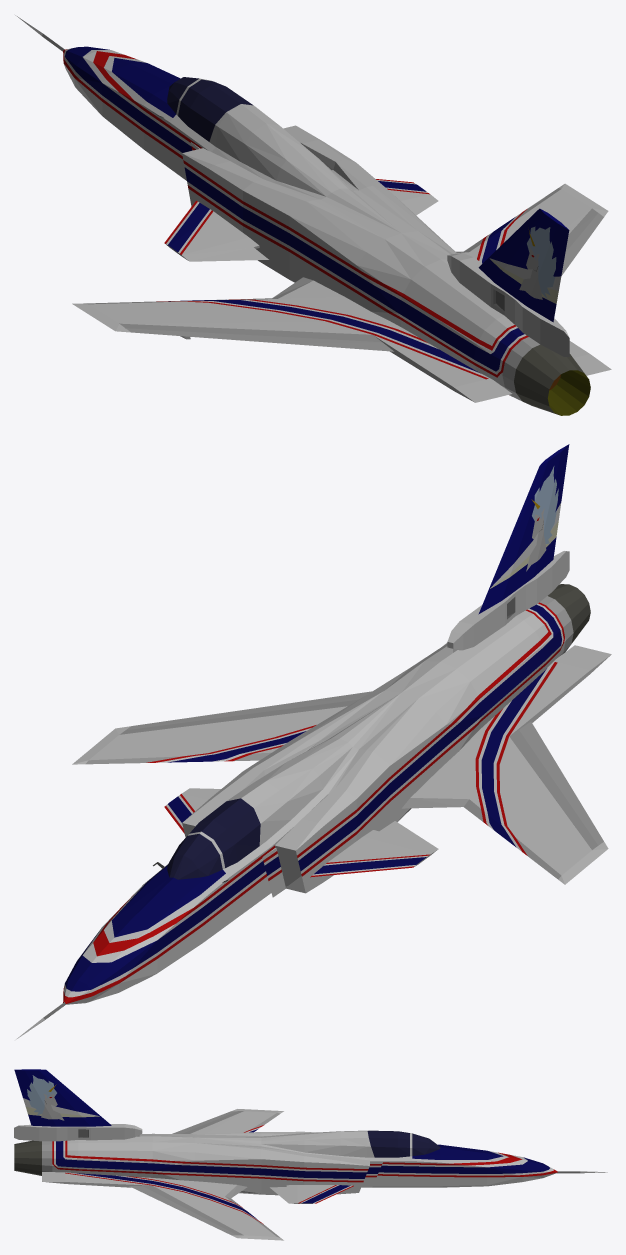
3 views of the same model, one above another, from view 1: azimuth 30°, elevation 25°; view 2: azimuth 150°, elevation 25°; view 3: azimuth 270°, elevation 25° (orthographic). The views are drawn at different scales.
Visible parts, largest first — view 1: ShapeIndexedFaceSet_ShapeIndexedFaceSet.001, ShapeIndexedFaceSet.029_ShapeIndexedFaceSet.030, ShapeIndexedFaceSet.001_ShapeIndexedFaceSet.002, ShapeIndexedFaceSet.003_ShapeIndexedFaceSet.004, ShapeIndexedFaceSet.002_ShapeIndexedFaceSet.003, ShapeIndexedFaceSet.011_ShapeIndexedFaceSet.012, ShapeIndexedFaceSet.005_ShapeIndexedFaceSet.006, ShapeIndexedFaceSet.018_ShapeIndexedFaceSet.019, ShapeIndexedFaceSet.004_ShapeIndexedFaceSet.005, ShapeIndexedFaceSet.064_ShapeIndexedFaceSet.065, ShapeIndexedFaceSet.030_ShapeIndexedFaceSet.031, ShapeIndexedFaceSet.009_ShapeIndexedFaceSet.010 (+12 smaller); view 2: ShapeIndexedFaceSet_ShapeIndexedFaceSet.001, ShapeIndexedFaceSet.029_ShapeIndexedFaceSet.030, ShapeIndexedFaceSet.001_ShapeIndexedFaceSet.002, ShapeIndexedFaceSet.005_ShapeIndexedFaceSet.006, ShapeIndexedFaceSet.003_ShapeIndexedFaceSet.004, ShapeIndexedFaceSet.002_ShapeIndexedFaceSet.003, ShapeIndexedFaceSet.011_ShapeIndexedFaceSet.012, ShapeIndexedFaceSet.018_ShapeIndexedFaceSet.019, ShapeIndexedFaceSet.030_ShapeIndexedFaceSet.031, ShapeIndexedFaceSet.064_ShapeIndexedFaceSet.065, ShapeIndexedFaceSet.034_ShapeIndexedFaceSet.035, ShapeIndexedFaceSet.031_ShapeIndexedFaceSet.032 (+5 smaller); view 3: ShapeIndexedFaceSet_ShapeIndexedFaceSet.001, ShapeIndexedFaceSet.001_ShapeIndexedFaceSet.002, ShapeIndexedFaceSet.029_ShapeIndexedFaceSet.030, ShapeIndexedFaceSet.003_ShapeIndexedFaceSet.004, ShapeIndexedFaceSet.002_ShapeIndexedFaceSet.003, ShapeIndexedFaceSet.011_ShapeIndexedFaceSet.012, ShapeIndexedFaceSet.018_ShapeIndexedFaceSet.019, ShapeIndexedFaceSet.005_ShapeIndexedFaceSet.006, ShapeIndexedFaceSet.004_ShapeIndexedFaceSet.005, ShapeIndexedFaceSet.069_ShapeIndexedFaceSet.070, ShapeIndexedFaceSet.030_ShapeIndexedFaceSet.031, ShapeIndexedFaceSet.031_ShapeIndexedFaceSet.032 (+9 smaller).
Part boxes in pixels (x1,y1,x2,y2): ShapeIndexedFaceSet_ShapeIndexedFaceSet.001: (64, 56, 514, 395); ShapeIndexedFaceSet.029_ShapeIndexedFaceSet.030: (72, 183, 608, 394); ShapeIndexedFaceSet.001_ShapeIndexedFaceSet.002: (65, 46, 524, 371); ShapeIndexedFaceSet.003_ShapeIndexedFaceSet.004: (63, 49, 528, 377); ShapeIndexedFaceSet.002_ShapeIndexedFaceSet.003: (64, 48, 526, 374); ShapeIndexedFaceSet.011_ShapeIndexedFaceSet.012: (447, 253, 569, 356); ShapeIndexedFaceSet.005_ShapeIndexedFaceSet.006: (167, 77, 252, 141); ShapeIndexedFaceSet.018_ShapeIndexedFaceSet.019: (478, 208, 569, 305); ShapeIndexedFaceSet.004_ShapeIndexedFaceSet.005: (514, 344, 583, 414); ShapeIndexedFaceSet.064_ShapeIndexedFaceSet.065: (182, 211, 268, 261); ShapeIndexedFaceSet.030_ShapeIndexedFaceSet.031: (168, 217, 514, 373); ShapeIndexedFaceSet.009_ShapeIndexedFaceSet.010: (547, 370, 590, 415); ShapeIndexedFaceSet_ShapeIndexedFaceSet.001: (66, 610, 565, 1004); ShapeIndexedFaceSet.029_ShapeIndexedFaceSet.030: (72, 643, 608, 884); ShapeIndexedFaceSet.001_ShapeIndexedFaceSet.002: (65, 604, 561, 991); ShapeIndexedFaceSet.005_ShapeIndexedFaceSet.006: (167, 798, 260, 879); ShapeIndexedFaceSet.003_ShapeIndexedFaceSet.004: (63, 602, 564, 1003); ShapeIndexedFaceSet.002_ShapeIndexedFaceSet.003: (64, 603, 563, 997); ShapeIndexedFaceSet.011_ShapeIndexedFaceSet.012: (447, 551, 569, 652); ShapeIndexedFaceSet.018_ShapeIndexedFaceSet.019: (478, 444, 569, 614); ShapeIndexedFaceSet.030_ShapeIndexedFaceSet.031: (168, 668, 546, 847); ShapeIndexedFaceSet.064_ShapeIndexedFaceSet.065: (328, 821, 438, 862); ShapeIndexedFaceSet.034_ShapeIndexedFaceSet.035: (85, 752, 561, 879); ShapeIndexedFaceSet.031_ShapeIndexedFaceSet.032: (158, 661, 554, 851); ShapeIndexedFaceSet_ShapeIndexedFaceSet.001: (52, 1130, 556, 1195); ShapeIndexedFaceSet.001_ShapeIndexedFaceSet.002: (56, 1141, 549, 1178); ShapeIndexedFaceSet.029_ShapeIndexedFaceSet.030: (42, 1109, 283, 1240); ShapeIndexedFaceSet.003_ShapeIndexedFaceSet.004: (52, 1140, 557, 1182); ShapeIndexedFaceSet.002_ShapeIndexedFaceSet.003: (54, 1141, 553, 1180); ShapeIndexedFaceSet.011_ShapeIndexedFaceSet.012: (14, 1124, 142, 1141); ShapeIndexedFaceSet.018_ShapeIndexedFaceSet.019: (14, 1069, 111, 1126); ShapeIndexedFaceSet.005_ShapeIndexedFaceSet.006: (367, 1130, 440, 1157); ShapeIndexedFaceSet.004_ShapeIndexedFaceSet.005: (14, 1140, 41, 1175); ShapeIndexedFaceSet.069_ShapeIndexedFaceSet.070: (270, 1185, 334, 1203); ShapeIndexedFaceSet.030_ShapeIndexedFaceSet.031: (74, 1129, 257, 1219); ShapeIndexedFaceSet.031_ShapeIndexedFaceSet.032: (65, 1127, 260, 1221).
Bounding box in the file's own units: 82.4 × 35.4 × 161.
